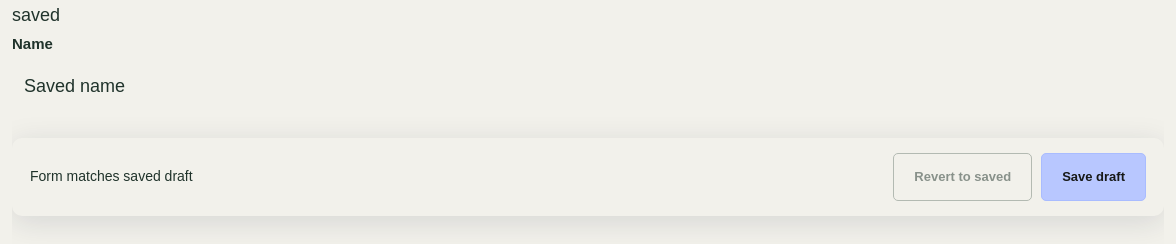
saved draft editor › retains unsaved text and permits retry after a failed server save
Replace the text in the field labelled "Name" with "Keep this text" at (588, 87), box [12,63,1164,110]
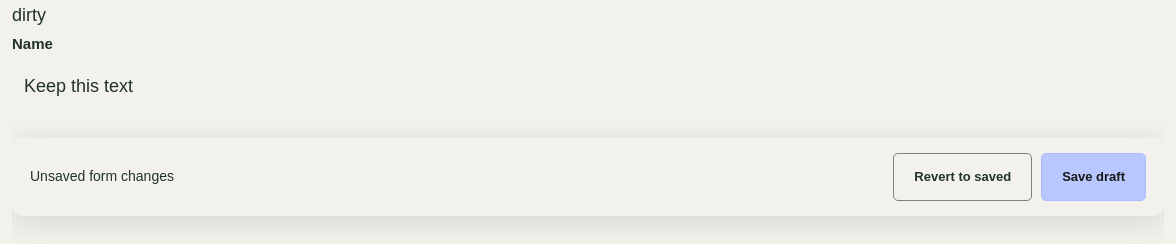
Click the button "Save draft".
click(1094, 177)  # box [1041,153,1146,201]
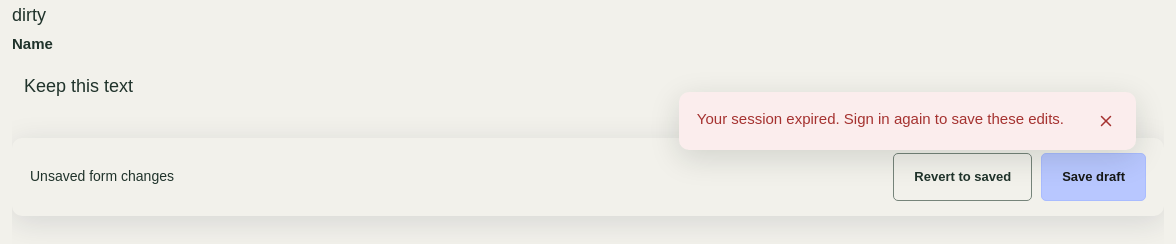
Result: the text named "Unsaved editor state" reads "dirty" at [12,5,46,25]
Result: the message "Your session expired. Sign in again to save these edits." is shown at [679,92,1136,150]
Click the button "Save draft".
click(1094, 177)  # box [1041,153,1146,201]
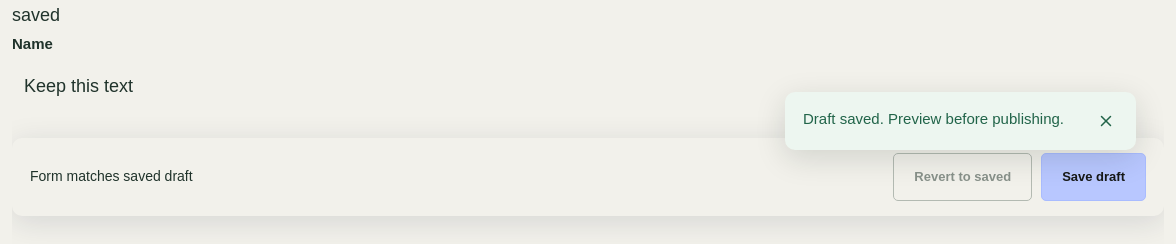
Result: the text named "Unsaved editor state" reads "saved" at [12,5,60,25]
